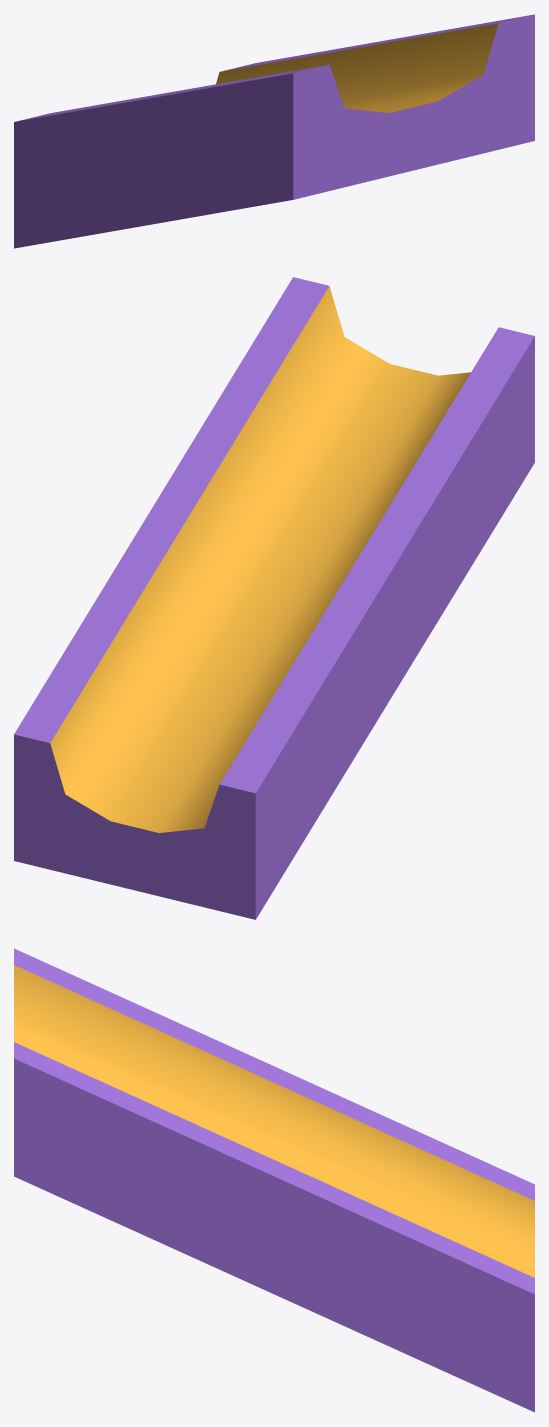
Rendered from slant-long-c.glb.
3 renders of one model, top to bottom at view 1: azimuth 30°, elevation 25°; view 2: azimuth 150°, elevation 25°; view 3: azimuth 270°, elevation 25°, orthographic. The views are drawn at different scales.
Visible parts, largest first — view 1: slant-long-c; view 2: slant-long-c; view 3: slant-long-c.
Part boxes in pixels (x1,y1,x2,y2): slant-long-c: (14, 14, 534, 248); slant-long-c: (14, 277, 534, 919); slant-long-c: (14, 948, 534, 1412).
Bounding box in the file's own units: 1 × 1.5 × 2.
Materials: 1 (1 with a texture image).
